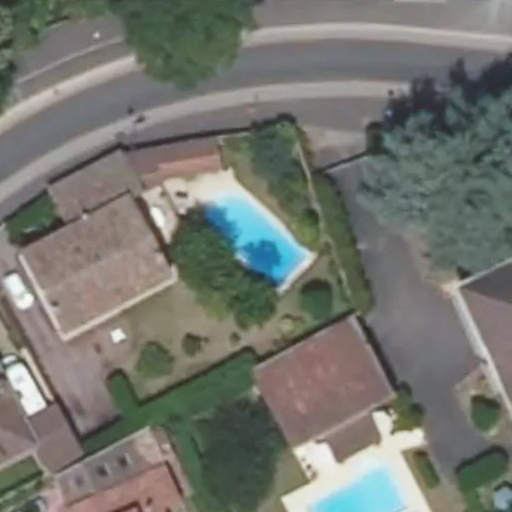pool: (212, 227, 299, 256)
